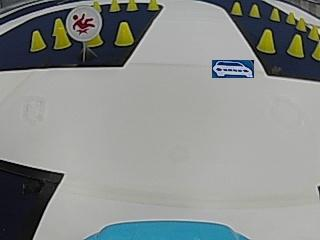cone: (256, 28, 279, 55), (114, 23, 134, 48), (287, 34, 305, 58), (55, 26, 72, 48), (29, 30, 43, 50), (250, 4, 262, 19), (231, 3, 243, 17), (271, 9, 282, 24), (299, 15, 309, 30), (128, 0, 139, 12), (286, 12, 296, 25), (110, 1, 121, 12), (148, 0, 159, 10)
tumble: (69, 8, 97, 40)
